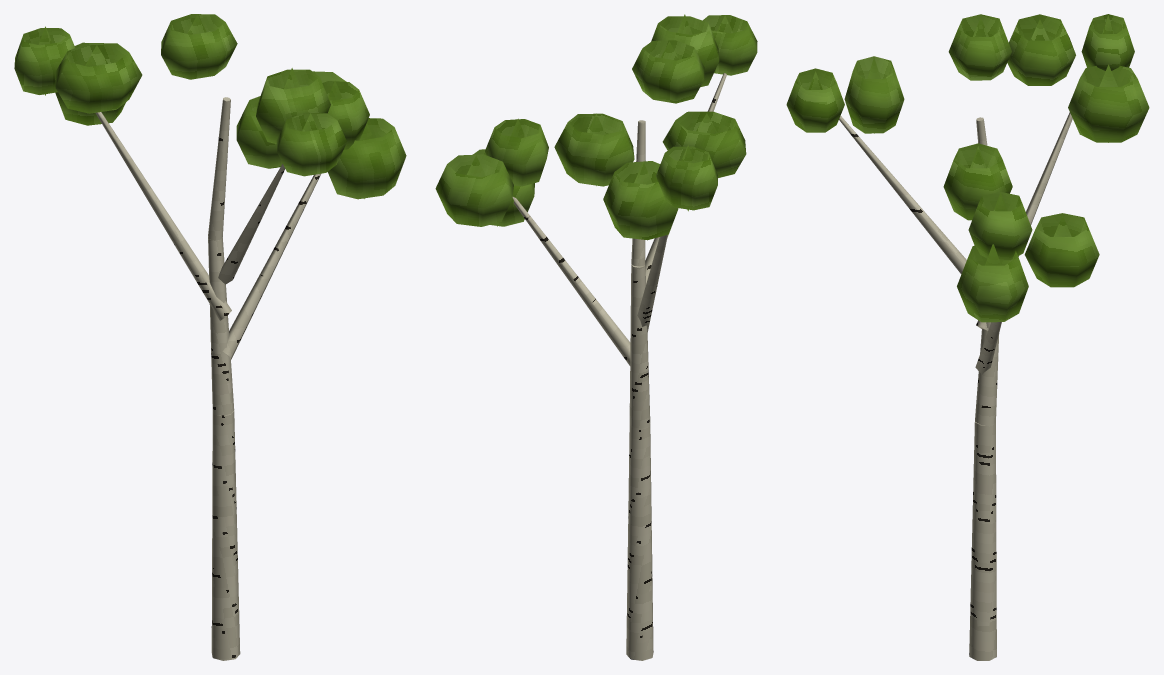
File: birch01-lod1.glb
3 renders of one model, left to right at view 1: azimuth 30°, elevation 25°; view 2: azimuth 150°, elevation 25°; view 3: azimuth 270°, elevation 25°, orthographic. The views are drawn at different scales.
Parts seen in each view (by area): view 1: TZ_birch_Batch_01_LOD1, TZ_birch_Batch_00_LOD1; view 2: TZ_birch_Batch_01_LOD1, TZ_birch_Batch_00_LOD1; view 3: TZ_birch_Batch_01_LOD1, TZ_birch_Batch_00_LOD1.
Boxes of the visible parts, x1,y1,x2,y2 form: TZ_birch_Batch_01_LOD1: (14,14,406,199); TZ_birch_Batch_00_LOD1: (95,97,320,660); TZ_birch_Batch_01_LOD1: (435,14,757,240); TZ_birch_Batch_00_LOD1: (512,73,726,660); TZ_birch_Batch_01_LOD1: (786,14,1149,322); TZ_birch_Batch_00_LOD1: (839,112,1072,660).
Bounding box in the file's own units: 4.84 × 9.2 × 4.85.
Materials: 2 (2 with a texture image).
